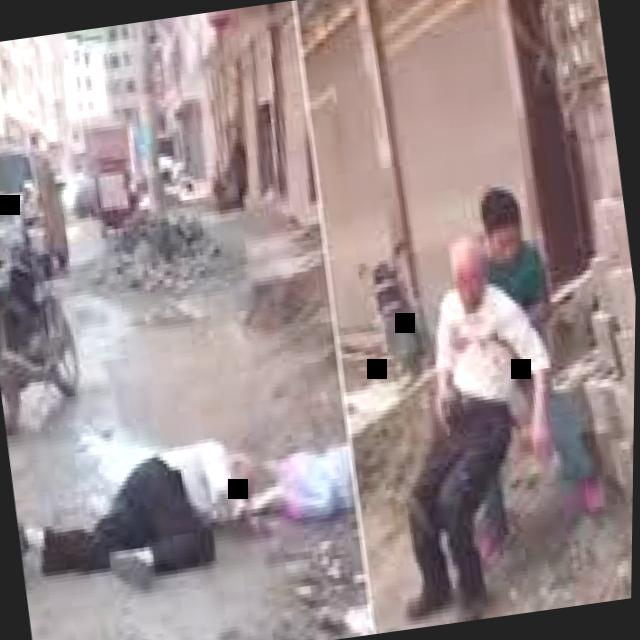Fall-Detected: (329, 212, 596, 630)
